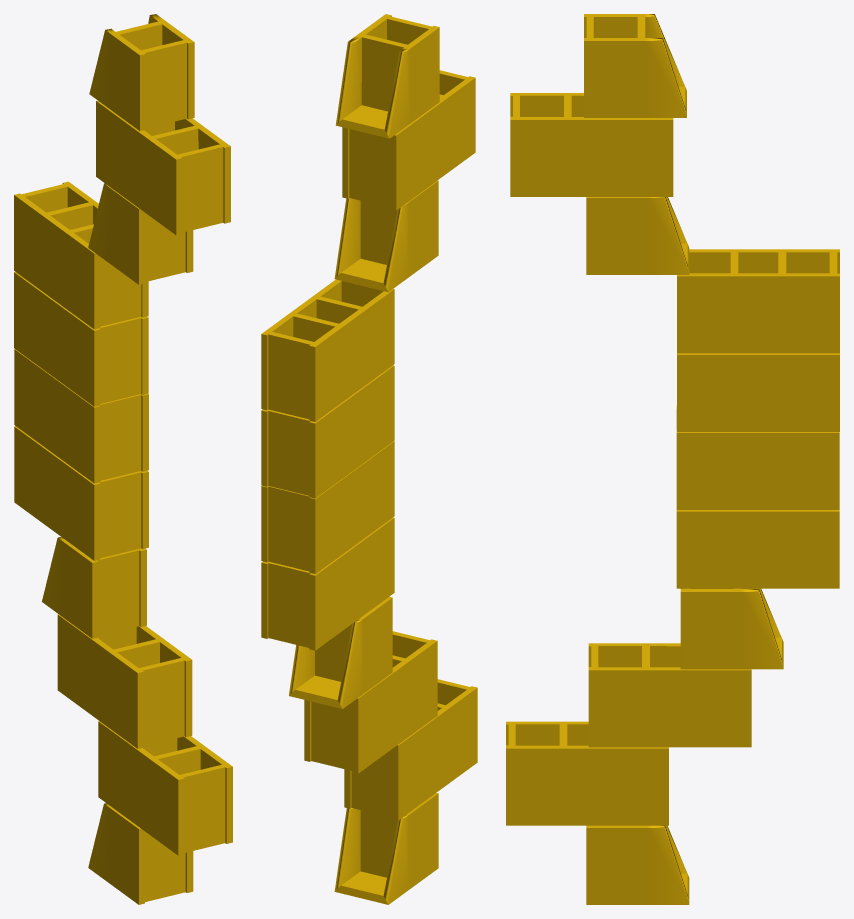
File: Wall_Cinderblock_03_Lod0.fbx
The picture shows the model from 3 angles, left to right: view 1: azimuth 30°, elevation 25°; view 2: azimuth 150°, elevation 25°; view 3: azimuth 270°, elevation 25°; orthographic projection. The views are drawn at different scales.
Parts seen in each view (by area): view 1: Wall_Cinderblock_03_Lod0; view 2: Wall_Cinderblock_03_Lod0; view 3: Wall_Cinderblock_03_Lod0.
Boxes of the visible parts, <box> form: Wall_Cinderblock_03_Lod0: <box>14,14,232,904</box>; Wall_Cinderblock_03_Lod0: <box>261,14,477,904</box>; Wall_Cinderblock_03_Lod0: <box>506,14,839,904</box>.
Size of the model in its own units: 20.09 by 299 by 105.
